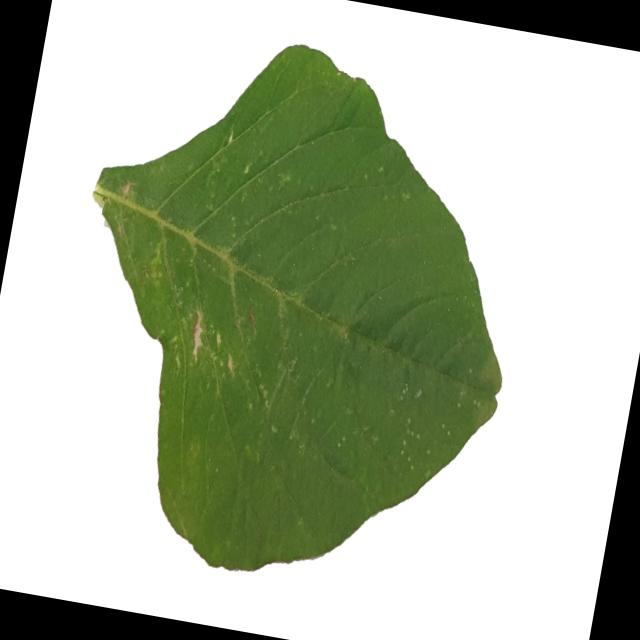Medicinal-Arive Dantu: (34, 7, 554, 611)
